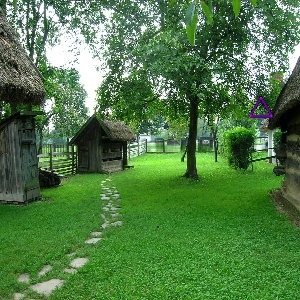triangle: (246, 95, 277, 121)
